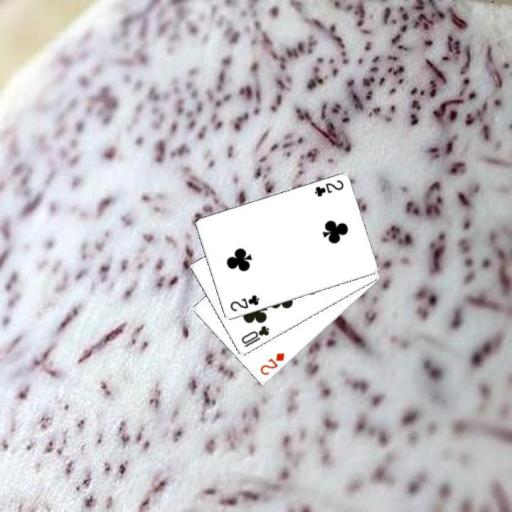10C: (237, 323, 271, 349)
2C: (227, 291, 261, 313), (311, 177, 345, 198)
2D: (257, 350, 286, 377)
